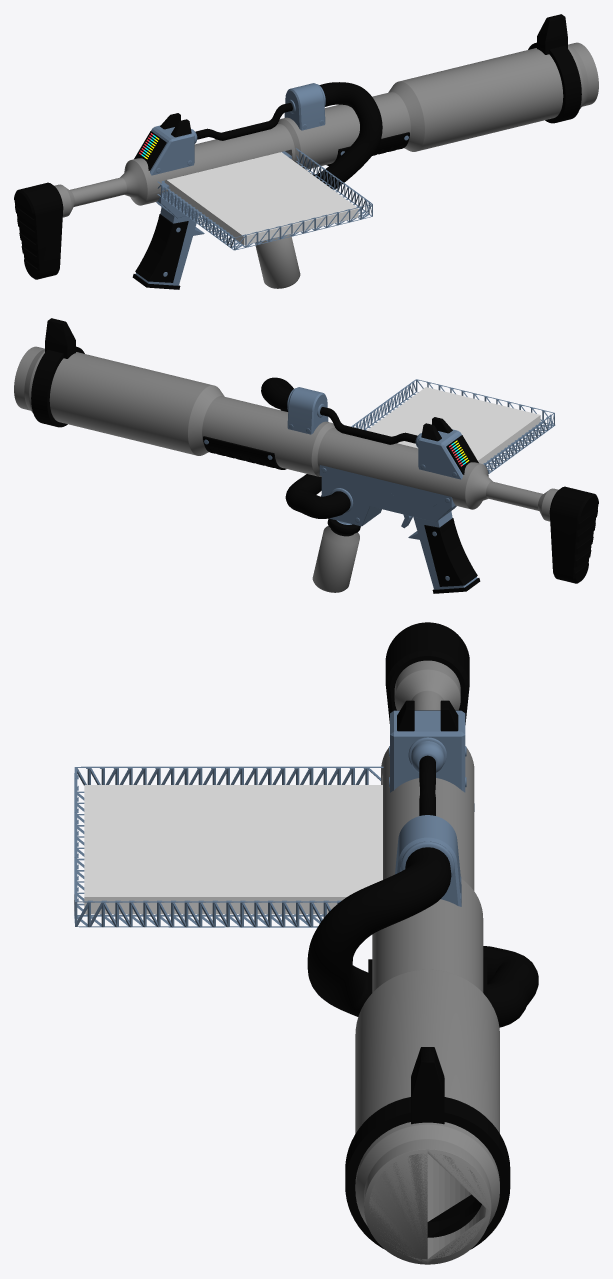
The model's file is PaperAR.fbx.
3 renders of one model, top to bottom at view 1: azimuth 30°, elevation 25°; view 2: azimuth 150°, elevation 25°; view 3: azimuth 270°, elevation 25°, orthographic. The views are drawn at different scales.
Parts seen in each view (by area): view 1: Cylinder, Cube.011, Cylinder.001, BezierCurve, Cube.005, Cube.012, Cylinder.003, Cylinder.017, Cylinder.007, Cube, Cube.001, Cube.004 (+4 smaller); view 2: Cylinder, Cube.011, Cylinder.001, Cube.001, BezierCurve, Cylinder.003, Cube.005, Cube.012, Cylinder.017, Cube.016, Cylinder.007, Cube (+5 smaller); view 3: Cylinder, Cube.011, BezierCurve, Cube.005, Cylinder.017, Cylinder.001, Cube, Cylinder.007, Cube.004, Cube.003, Cylinder.012.
Part boxes in pixels (left/top/right/bottom): Cylinder: left=54, top=42, right=598, bottom=217; Cube.011: left=164, top=152, right=358, bottom=245; Cylinder.001: left=14, top=182, right=63, bottom=279; BezierCurve: left=306, top=82, right=382, bottom=189; Cube.005: left=157, top=148, right=372, bottom=250; Cube.012: left=135, top=214, right=188, bottom=282; Cylinder.003: left=255, top=234, right=300, bottom=288; Cylinder.017: left=528, top=42, right=581, bottom=123; Cylinder.007: left=284, top=83, right=325, bottom=130; Cube: left=150, top=125, right=194, bottom=175; Cube.001: left=135, top=201, right=204, bottom=285; Cube.004: left=537, top=14, right=567, bottom=54; Cylinder: left=14, top=346, right=558, bottom=521; Cube.011: left=366, top=387, right=540, bottom=464; Cylinder.001: left=549, top=486, right=598, bottom=583; Cube.001: left=321, top=476, right=477, bottom=589; BezierCurve: left=261, top=377, right=350, bottom=518; Cylinder.003: left=312, top=526, right=359, bottom=592; Cube.005: left=351, top=379, right=555, bottom=474; Cube.012: left=424, top=518, right=477, bottom=586; Cylinder.017: left=31, top=346, right=84, bottom=427; Cube.016: left=319, top=465, right=455, bottom=507; Cylinder.007: left=287, top=387, right=328, bottom=434; Cube: left=418, top=429, right=462, bottom=479; Cylinder: left=355, top=660, right=499, bottom=1264; Cube.011: left=84, top=785, right=382, bottom=914; BezierCurve: left=307, top=847, right=538, bottom=1027; Cube.005: left=74, top=766, right=383, bottom=927; Cylinder.017: left=345, top=1097, right=510, bottom=1249; Cylinder.001: left=385, top=622, right=469, bottom=724; Cube: left=390, top=710, right=465, bottom=792; Cylinder.007: left=395, top=815, right=461, bottom=906; Cube.004: left=411, top=1047, right=444, bottom=1124; Cube.003: left=397, top=700, right=458, bottom=731; Cylinder.012: left=419, top=755, right=435, bottom=815.
Bounding box in the file's own units: 3445 × 1169 × 1234.
